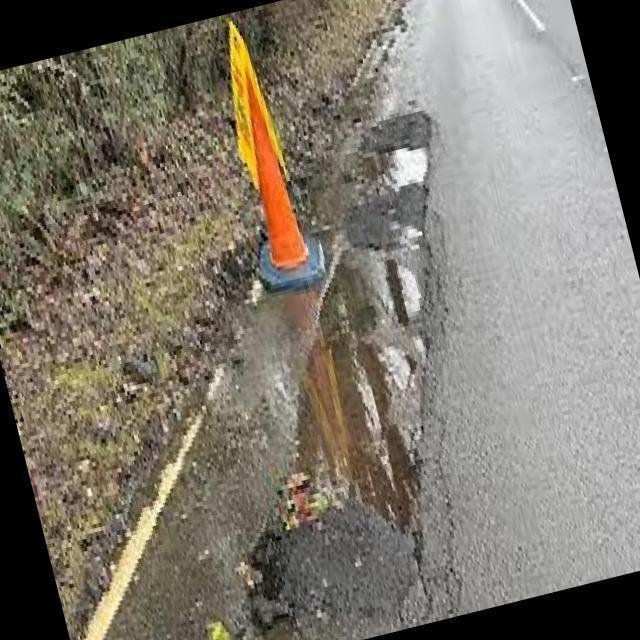Pothole: (215, 150, 446, 594)
